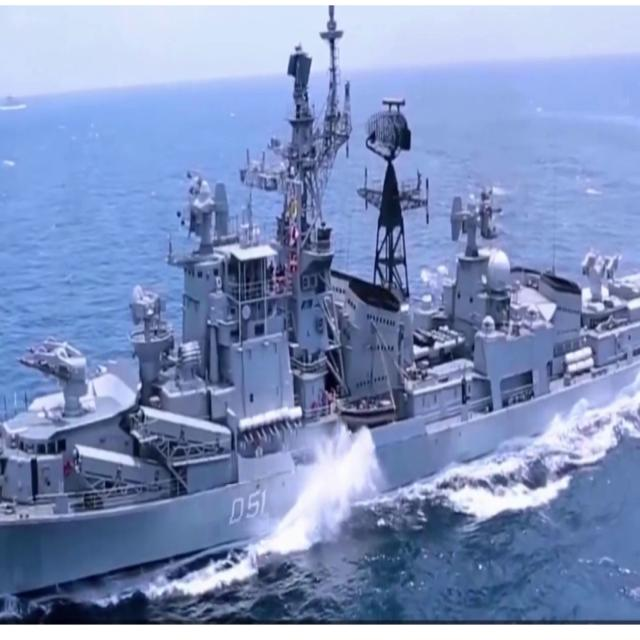OCR: (220, 484, 271, 536)
